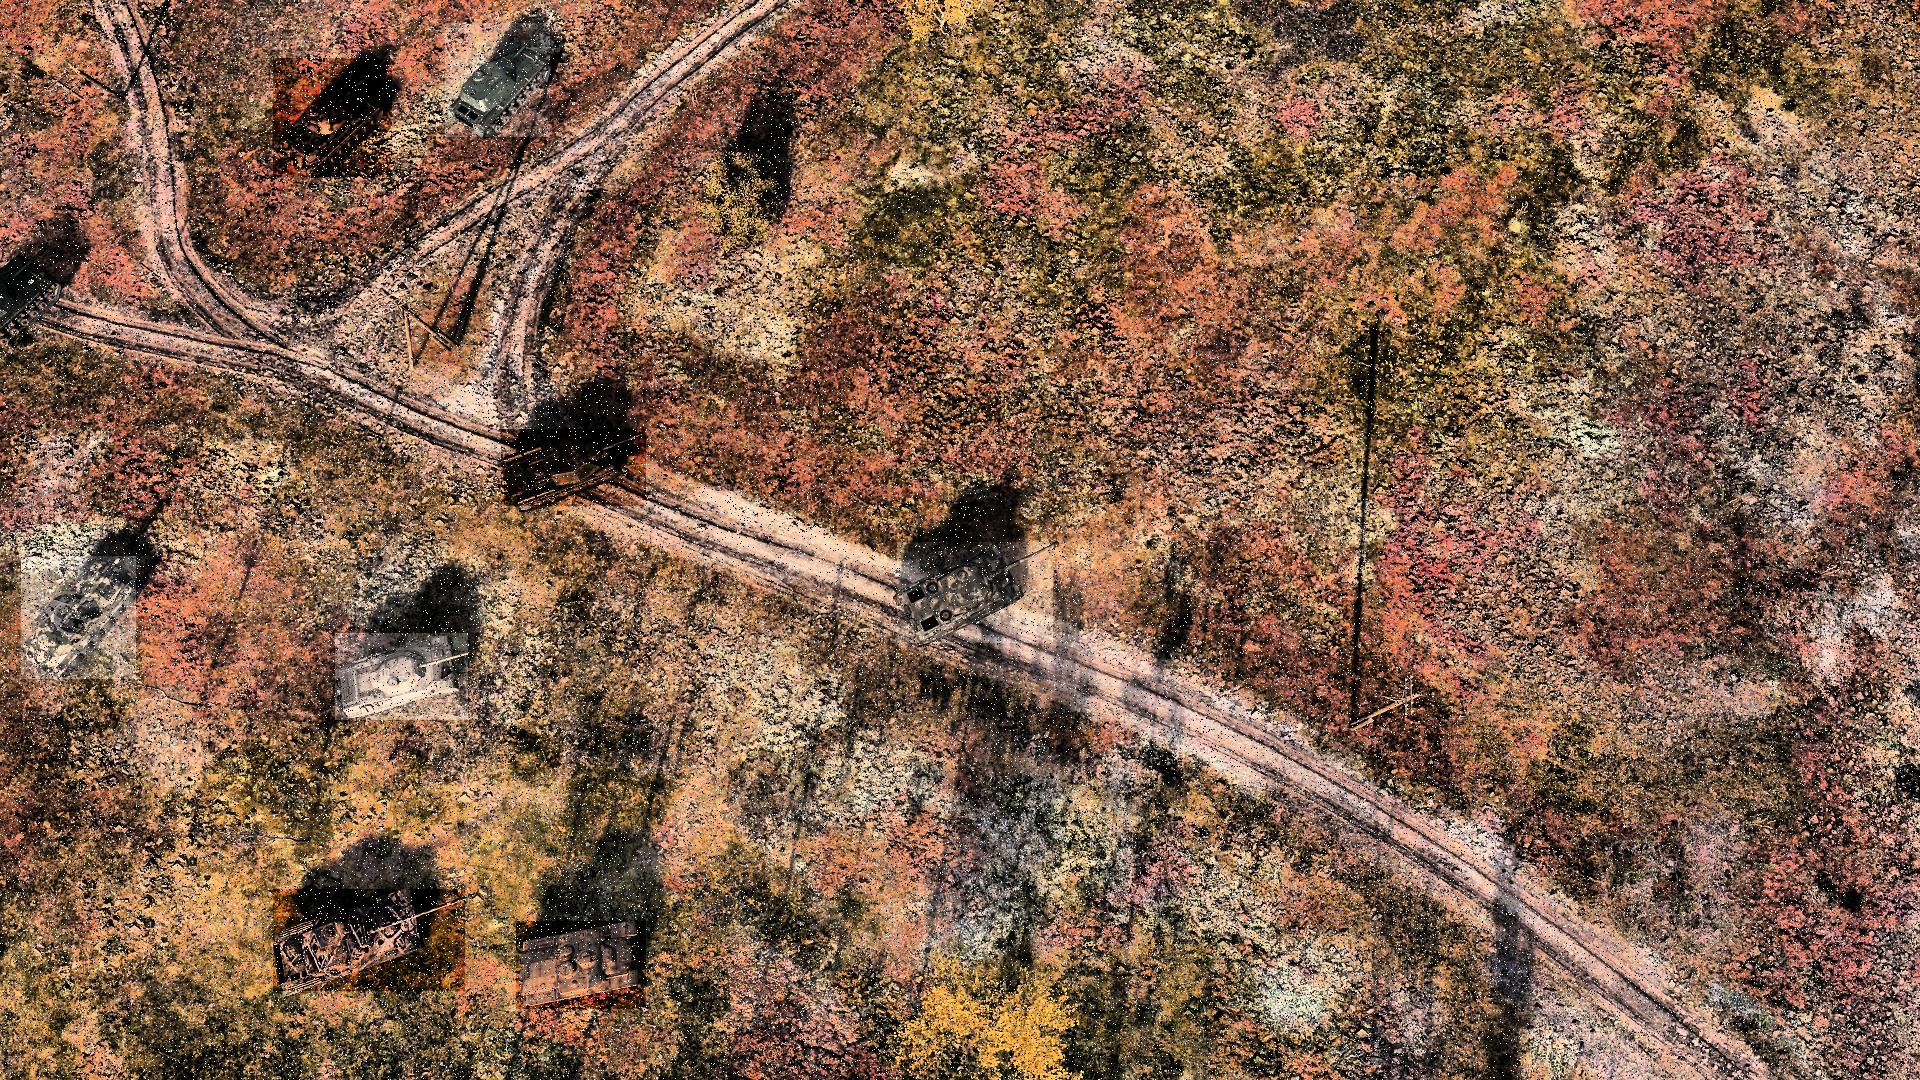military-vehicle: (273, 890, 465, 992), (897, 542, 1054, 644), (21, 556, 137, 680), (273, 58, 392, 177), (444, 24, 550, 137), (335, 633, 468, 720), (517, 922, 646, 1010), (501, 430, 646, 506)
